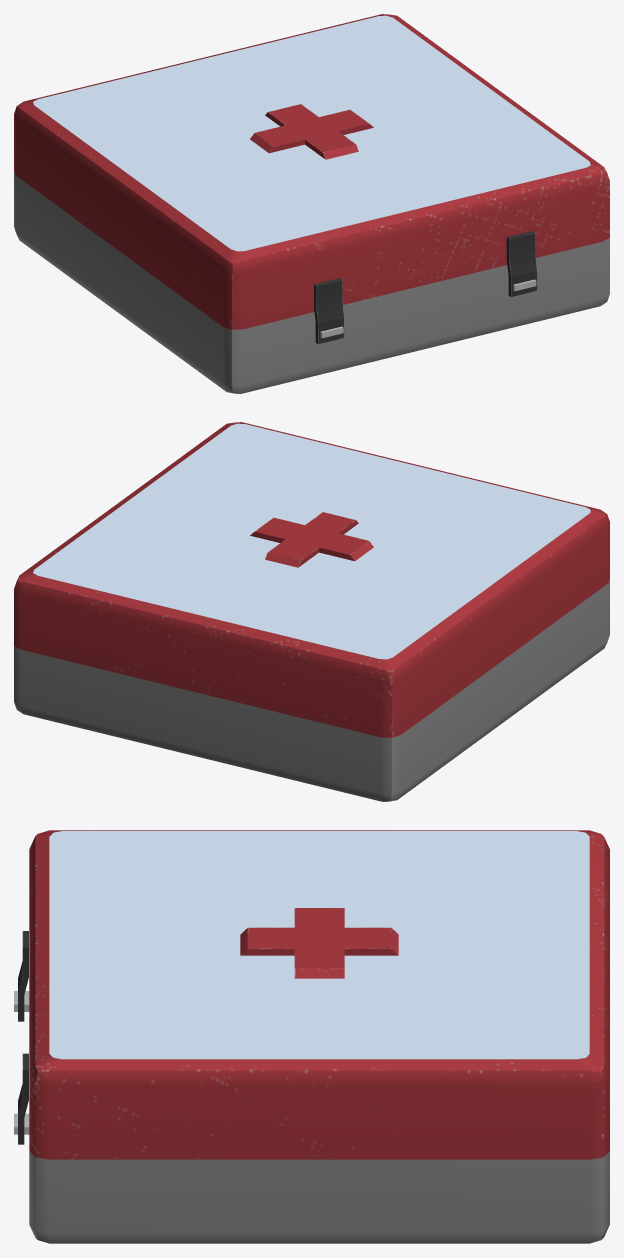
The model's file is Caja_medica_cerrada_Tx01.fbx.
3 renders of one model, top to bottom at view 1: azimuth 30°, elevation 25°; view 2: azimuth 150°, elevation 25°; view 3: azimuth 270°, elevation 25°, orthographic. The views are drawn at different scales.
Visible parts, largest first — view 1: Vidrio_trasparante, Tapa_caja_medica_geo1, Base_caja_medica_AB_geo; view 2: Vidrio_trasparante, Tapa_caja_medica_geo1, Base_caja_medica_AB_geo; view 3: Vidrio_trasparante, Tapa_caja_medica_geo1, Base_caja_medica_AB_geo.
Part boxes in pixels (left/top/right/bottom): Vidrio_trasparante: left=33, top=15, right=590, bottom=251; Tapa_caja_medica_geo1: left=14, top=14, right=609, bottom=344; Base_caja_medica_AB_geo: left=14, top=171, right=609, bottom=393; Vidrio_trasparante: left=33, top=423, right=590, bottom=659; Tapa_caja_medica_geo1: left=14, top=422, right=609, bottom=737; Base_caja_medica_AB_geo: left=14, top=579, right=609, bottom=801; Vidrio_trasparante: left=49, top=831, right=589, bottom=1059; Tapa_caja_medica_geo1: left=18, top=830, right=609, bottom=1159; Base_caja_medica_AB_geo: left=14, top=991, right=609, bottom=1243.
Size of the model in its own units: 16.46 by 5.95 by 16.89.
Materials: 3 (3 with a texture image).
